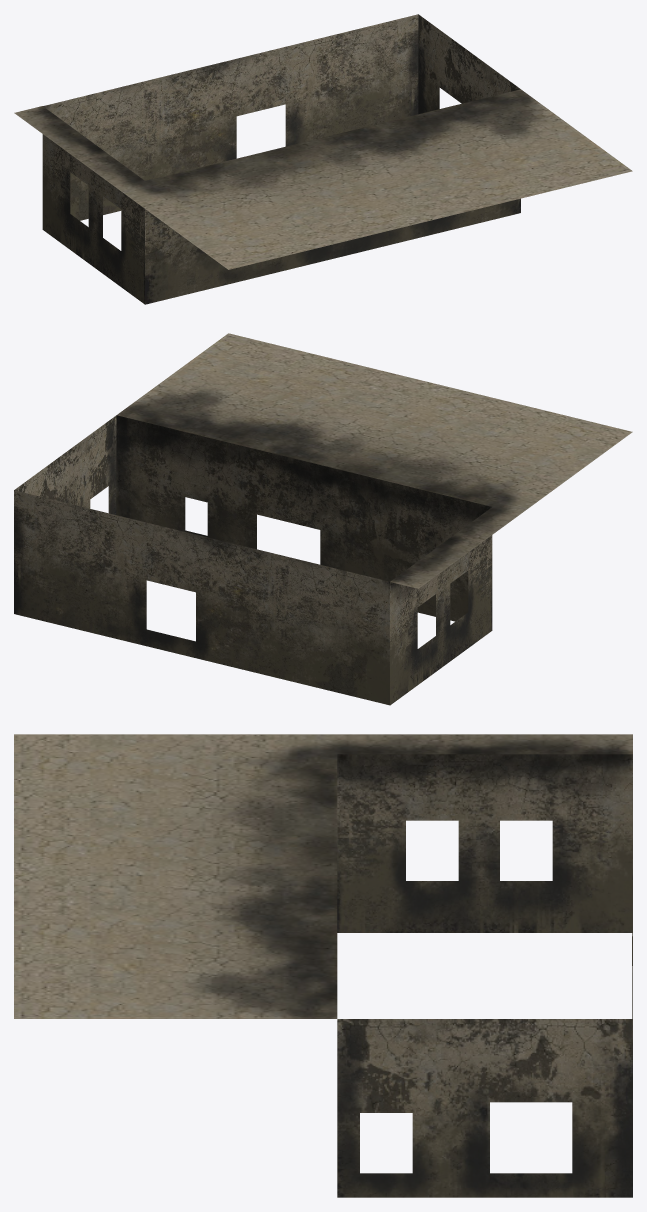
The model's file is GroundBase.FBX.
3 views of the same model, one above another, from view 1: azimuth 30°, elevation 25°; view 2: azimuth 150°, elevation 25°; view 3: azimuth 270°, elevation 25° (orthographic). The views are drawn at different scales.
Visible parts, largest first — view 1: GroundBase; view 2: GroundBase; view 3: GroundBase.
Part boxes in pixels (x1=…): GroundBase: x1=14, y1=14, x2=632, y2=304; GroundBase: x1=14, y1=333, x2=632, y2=705; GroundBase: x1=14, y1=734, x2=632, y2=1197.
Bounding box in the file's own units: 1748 × 511 × 1606.
